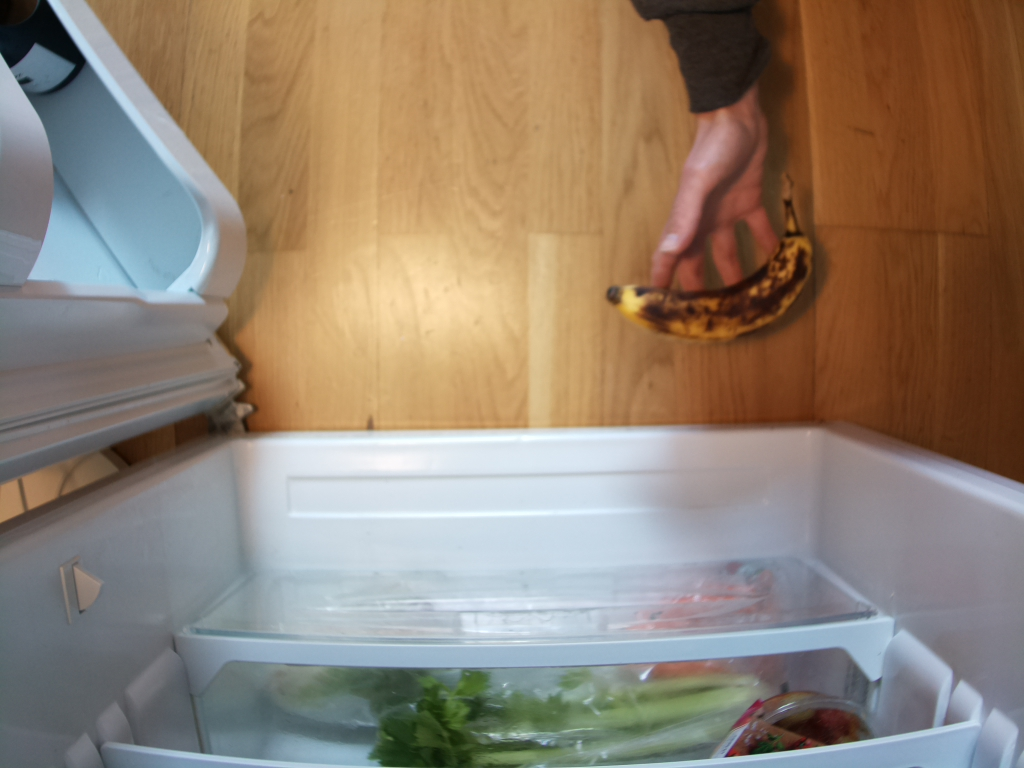banana-overripe: (605, 170, 815, 342)
